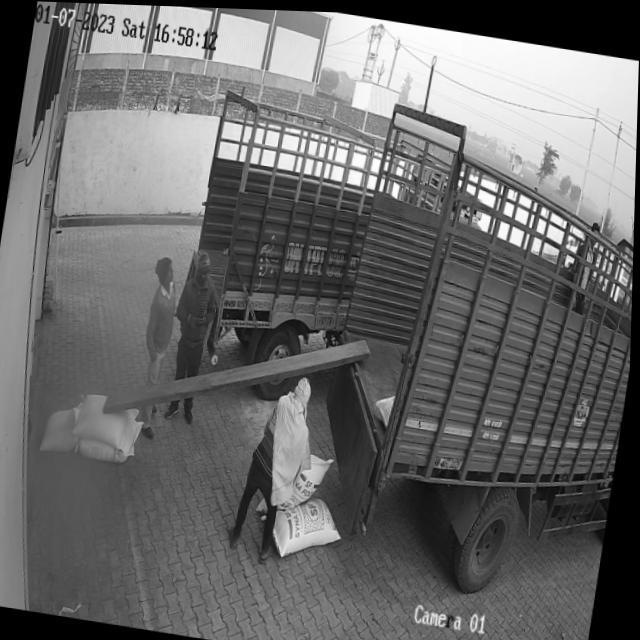sack: (272, 488, 349, 564), (72, 389, 142, 451), (279, 446, 336, 514), (76, 410, 146, 464), (40, 403, 86, 455)
